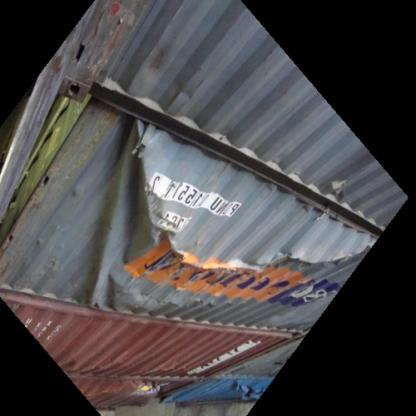Damage: (86, 116, 183, 320), (166, 240, 373, 306)
